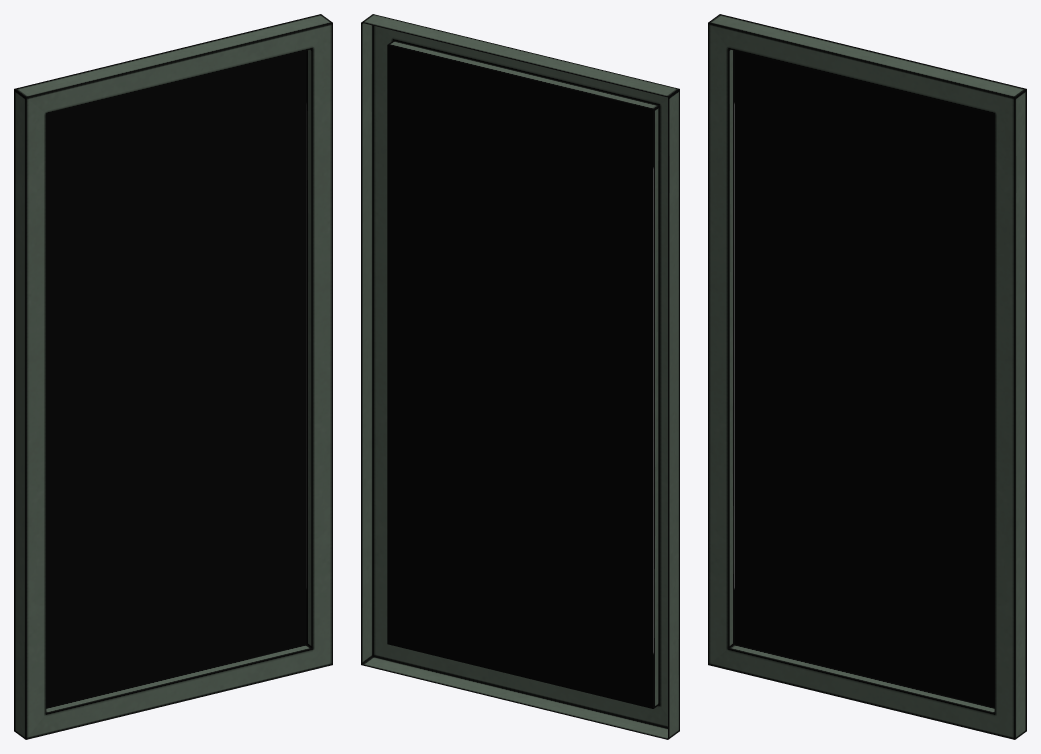
Rendered from Painting.fbx.
3 views of the same model, side by side, from view 1: azimuth 30°, elevation 25°; view 2: azimuth 150°, elevation 25°; view 3: azimuth 330°, elevation 25° (orthographic).
Parts seen in each view (by area): view 1: Painting(Image), Painting; view 2: Painting(Image), Painting; view 3: Painting(Image), Painting.
Boxes of the visible parts, x1,y1,x2,y2 form: Painting(Image): (46, 50, 306, 707); Painting: (14, 14, 332, 739); Painting(Image): (387, 45, 653, 708); Painting: (361, 14, 679, 739); Painting(Image): (734, 50, 994, 707); Painting: (708, 14, 1026, 739).
Bounding box in the file's own units: 75 × 150 × 5.
